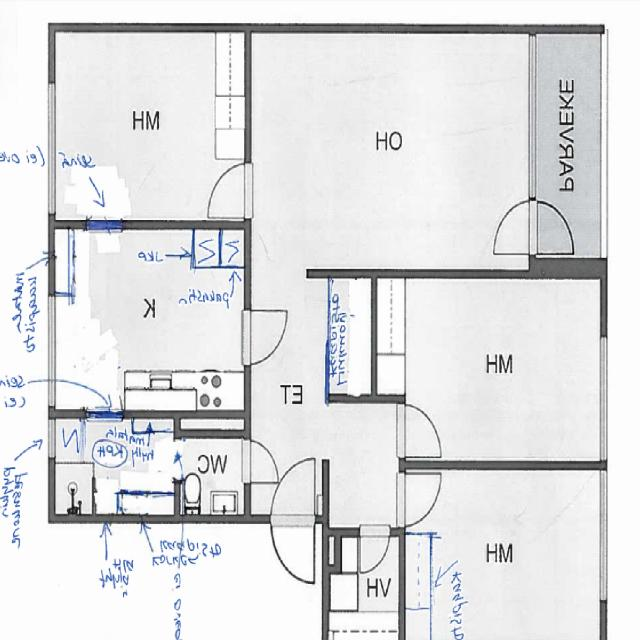door: (272, 514, 314, 583), (272, 455, 314, 523), (489, 200, 536, 254), (244, 310, 291, 364), (529, 200, 575, 254), (205, 164, 251, 218), (399, 404, 443, 458), (399, 473, 443, 526), (244, 440, 282, 483), (360, 528, 389, 576)
